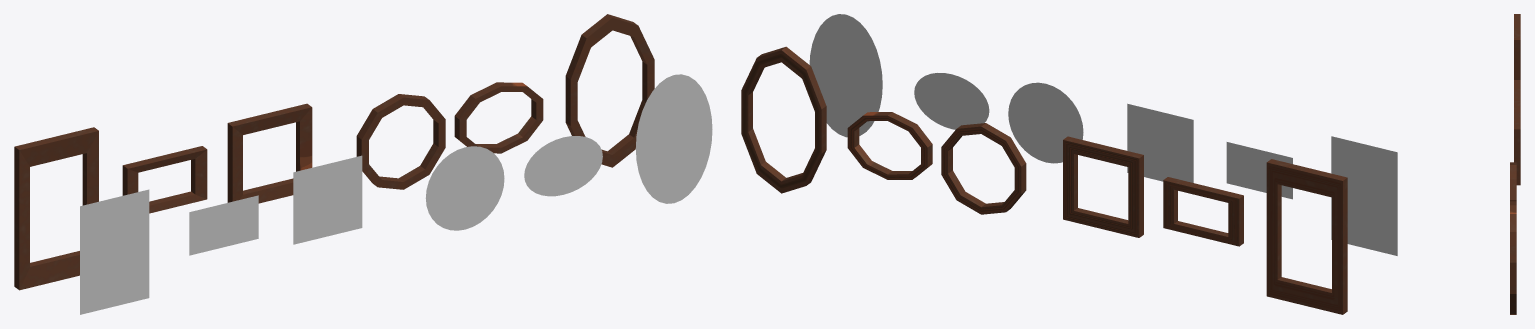
File: Pictures & Picture Frames.fbx
3 renders of one model, left to right at view 1: azimuth 30°, elevation 25°; view 2: azimuth 150°, elevation 25°; view 3: azimuth 270°, elevation 25°, orthographic. The views are drawn at different scales.
Visible parts, largest first — view 1: Frame Pic 6, Frame Pic 1, Frame 1, Frame Pic 4, Frame Pic 3, Frame 3, Frame 6, Frame Pic 5, Frame 4, Frame Pic 2, Frame 2, Frame 5; view 2: Frame 1, Frame Pic 6, Frame Pic 1, Frame 6, Frame Pic 4, Frame 3, Frame Pic 3, Frame Pic 5, Frame 4, Frame 2, Frame 5, Frame Pic 2; view 3: Frame 6, Frame 3, Frame 1, Frame 4, Frame 2, Frame 5.
Part boxes in pixels (x1,y1,x2,y2): Frame Pic 6: (635, 74, 712, 203); Frame Pic 1: (80, 189, 149, 314); Frame 1: (14, 127, 98, 290); Frame Pic 4: (425, 146, 504, 230); Frame Pic 3: (293, 155, 362, 244); Frame 3: (227, 103, 312, 203); Frame 6: (565, 14, 654, 167); Frame Pic 5: (524, 136, 602, 196); Frame 4: (356, 94, 445, 189); Frame Pic 2: (189, 195, 258, 255); Frame 2: (122, 146, 207, 213); Frame 5: (454, 82, 543, 153); Frame 1: (1266, 159, 1347, 314); Frame Pic 6: (809, 14, 882, 137); Frame Pic 1: (1331, 136, 1397, 255); Frame 6: (741, 46, 826, 193); Frame Pic 4: (1008, 82, 1083, 163); Frame 3: (1063, 136, 1143, 237); Frame Pic 3: (1127, 103, 1193, 182); Frame Pic 5: (914, 73, 989, 129); Frame 4: (941, 123, 1026, 214); Frame 2: (1163, 177, 1243, 246); Frame 5: (847, 112, 932, 179); Frame Pic 2: (1226, 142, 1292, 199); Frame 6: (1510, 214, 1516, 314); Frame 3: (1514, 103, 1520, 185); Frame 1: (1514, 14, 1520, 79); Frame 4: (1510, 162, 1516, 201); Frame 2: (1514, 80, 1520, 102); Frame 5: (1510, 201, 1516, 213).
Size of the model in its own units: 7.3 by 1.76 by 1.4.
